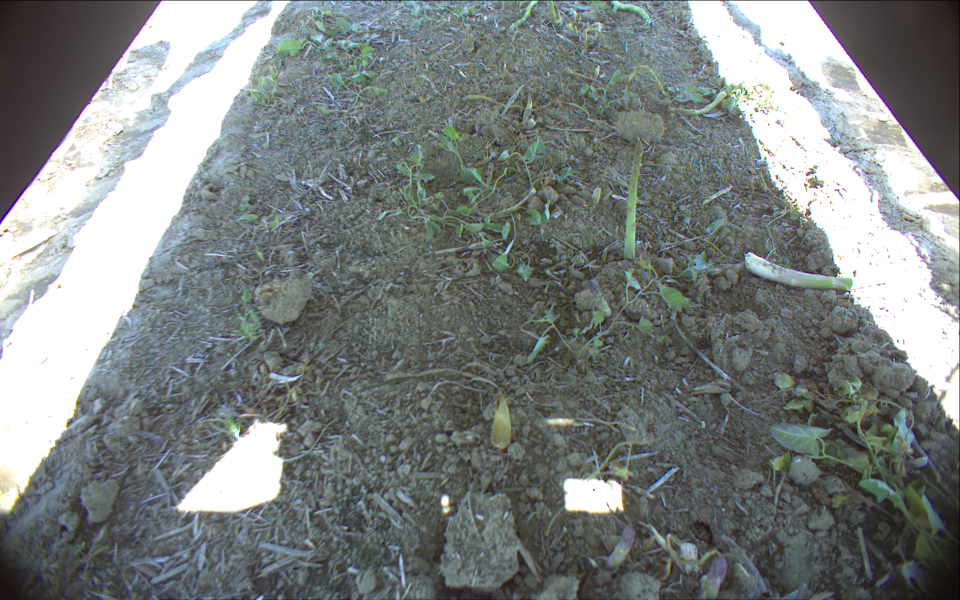aspa: (619, 135, 649, 267)
